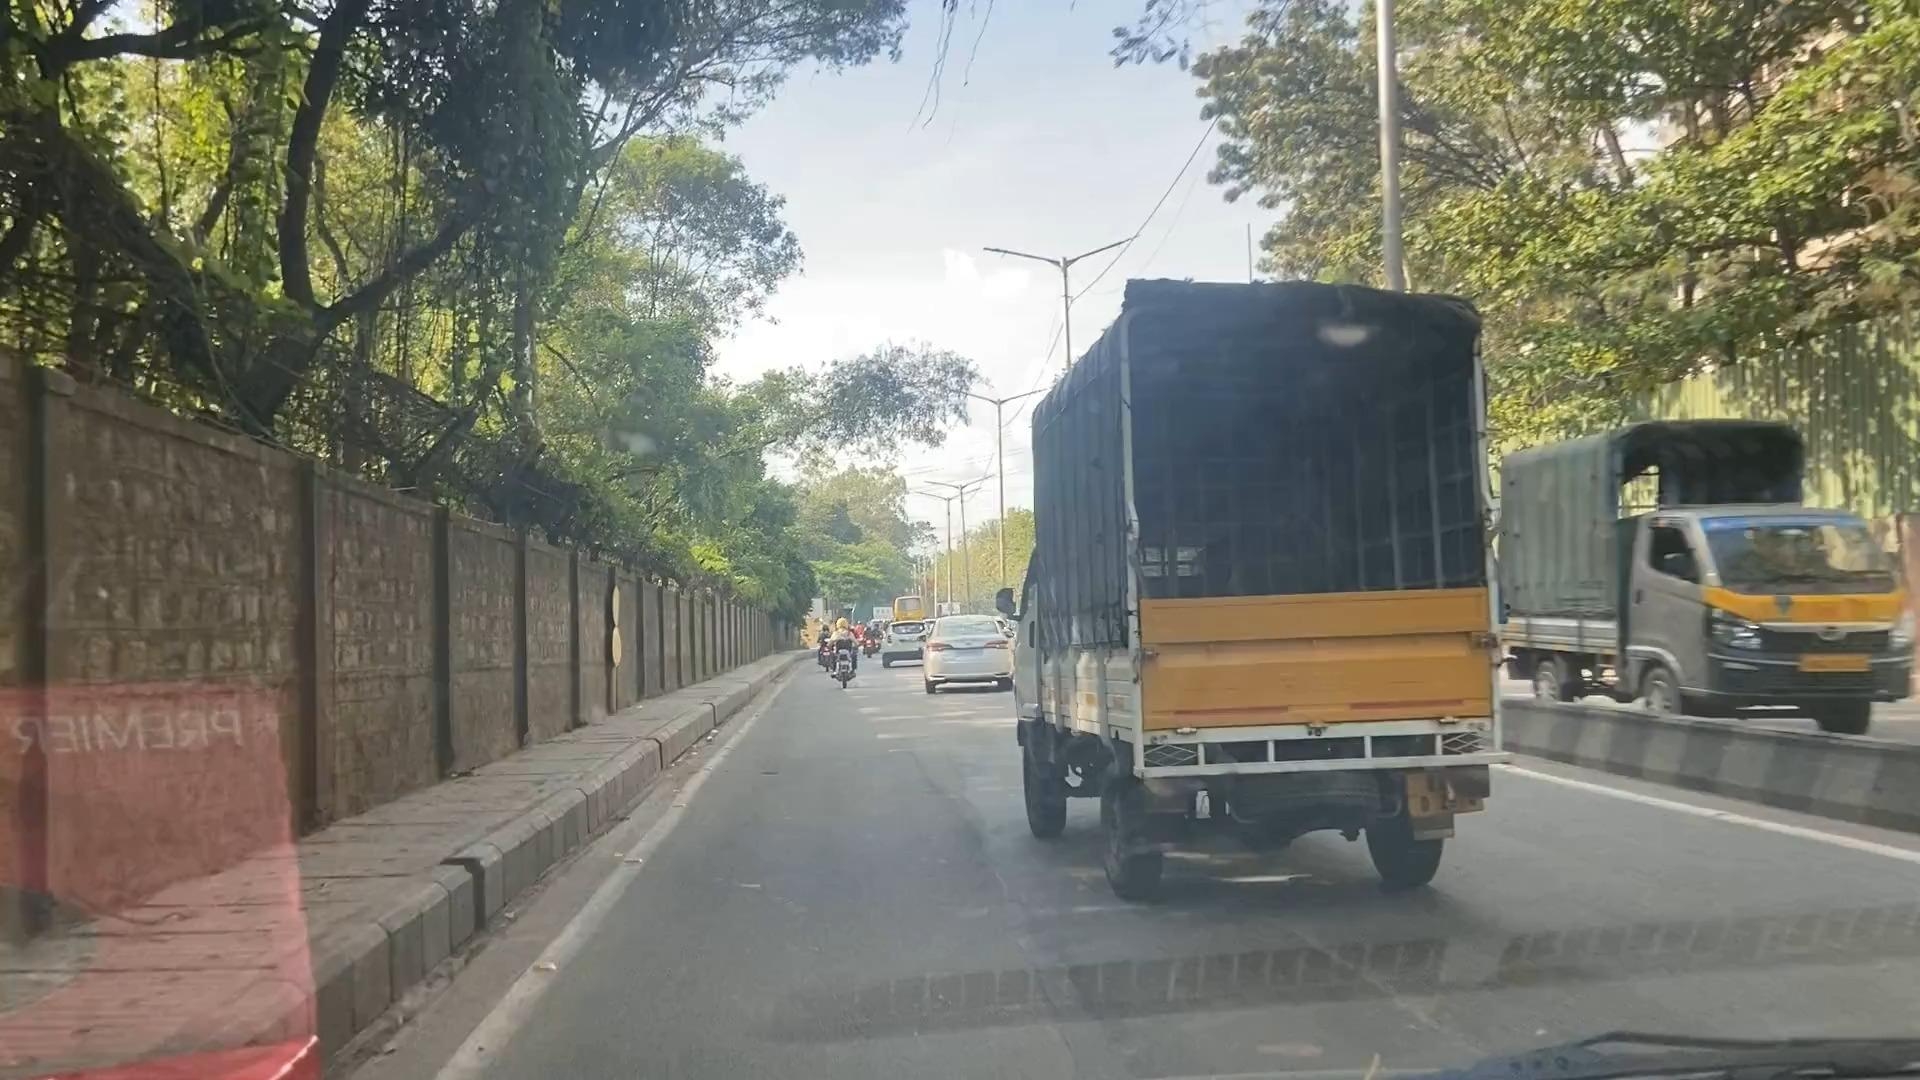HMV: (1004, 248, 1523, 926), (1500, 426, 1908, 742)
